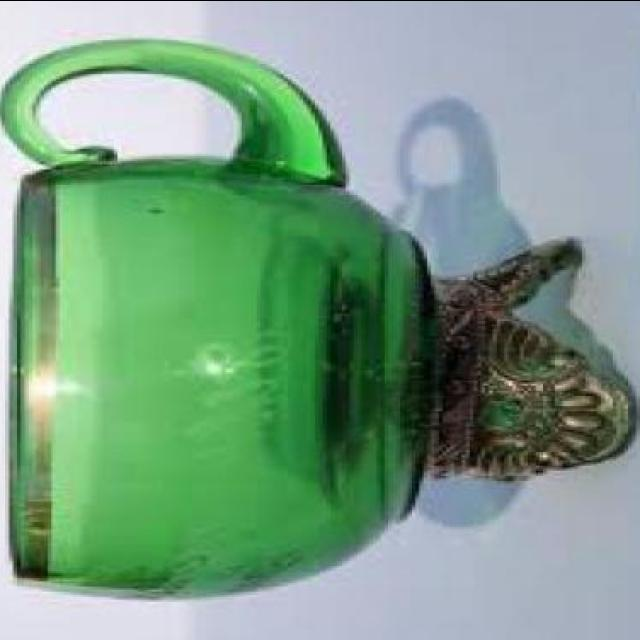kaca: (1, 34, 430, 596)
